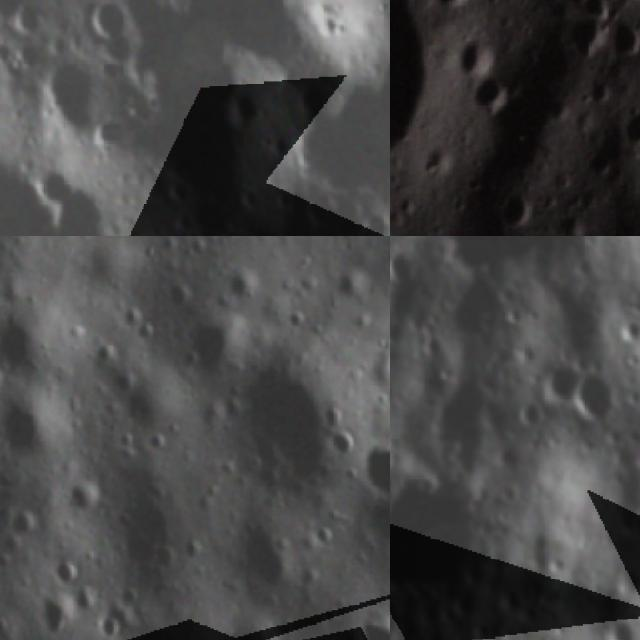crater: (238, 362, 338, 493), (390, 0, 451, 207), (390, 469, 482, 595), (28, 49, 96, 134), (228, 522, 300, 591), (0, 397, 56, 463), (284, 202, 387, 236), (0, 314, 53, 375), (23, 158, 81, 213), (187, 320, 240, 380), (484, 183, 542, 236), (575, 364, 623, 426), (85, 109, 133, 160), (216, 85, 262, 136), (0, 0, 49, 47), (469, 68, 511, 119), (85, 0, 134, 42), (542, 352, 582, 403), (359, 440, 390, 502), (34, 592, 74, 640), (328, 262, 373, 303), (578, 138, 618, 182), (390, 248, 425, 290), (181, 214, 234, 236), (602, 609, 639, 640), (355, 608, 390, 640), (614, 19, 640, 59), (515, 397, 546, 430), (92, 615, 129, 640), (0, 30, 21, 73), (621, 100, 640, 144), (54, 564, 81, 590)
